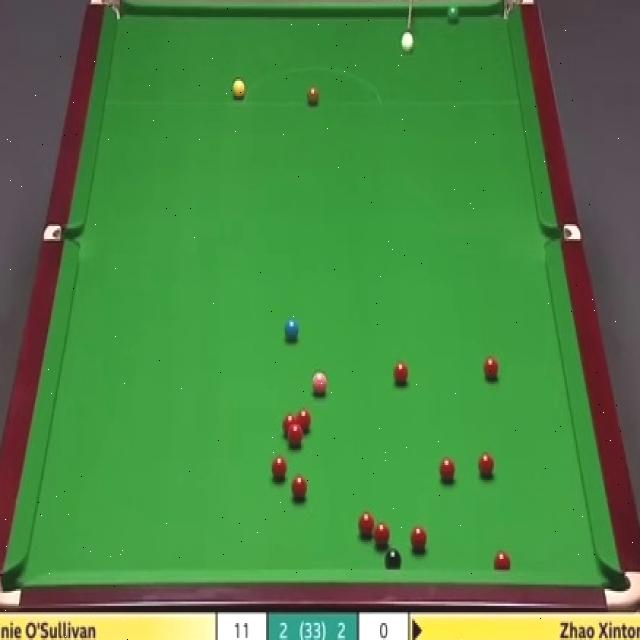black-ball: (385, 547, 402, 570)
blue-ball: (283, 318, 301, 340)
brown-ball: (307, 82, 319, 104)
pink-ball: (311, 372, 329, 399)
red-ball: (438, 457, 458, 485), (392, 358, 410, 388), (410, 527, 428, 555), (374, 520, 390, 550), (268, 458, 288, 482), (357, 513, 375, 539), (478, 452, 496, 478), (286, 482, 305, 505), (483, 356, 498, 383), (282, 414, 297, 440), (297, 409, 311, 434), (493, 550, 511, 569), (288, 428, 304, 448)
white-ball: (402, 32, 414, 52)
yellow-ball: (232, 81, 244, 99)
